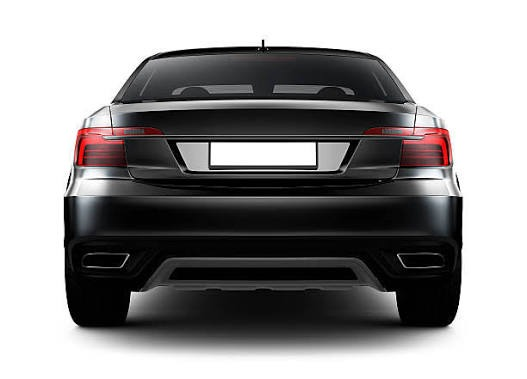car: (72, 44, 455, 328)
